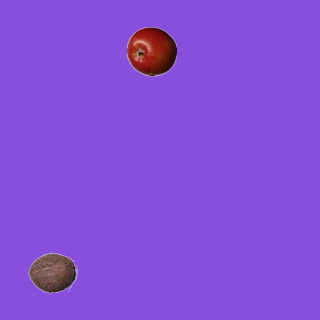Apple Braeburn: (126, 26, 176, 76)
Cocos: (27, 247, 77, 297)
